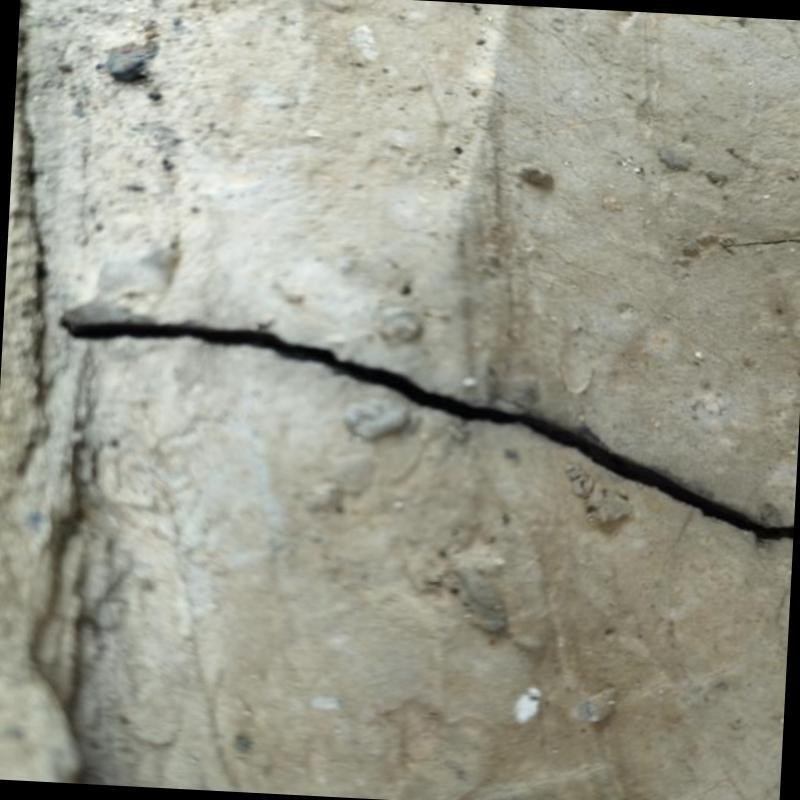pothole: (62, 320, 793, 540)
